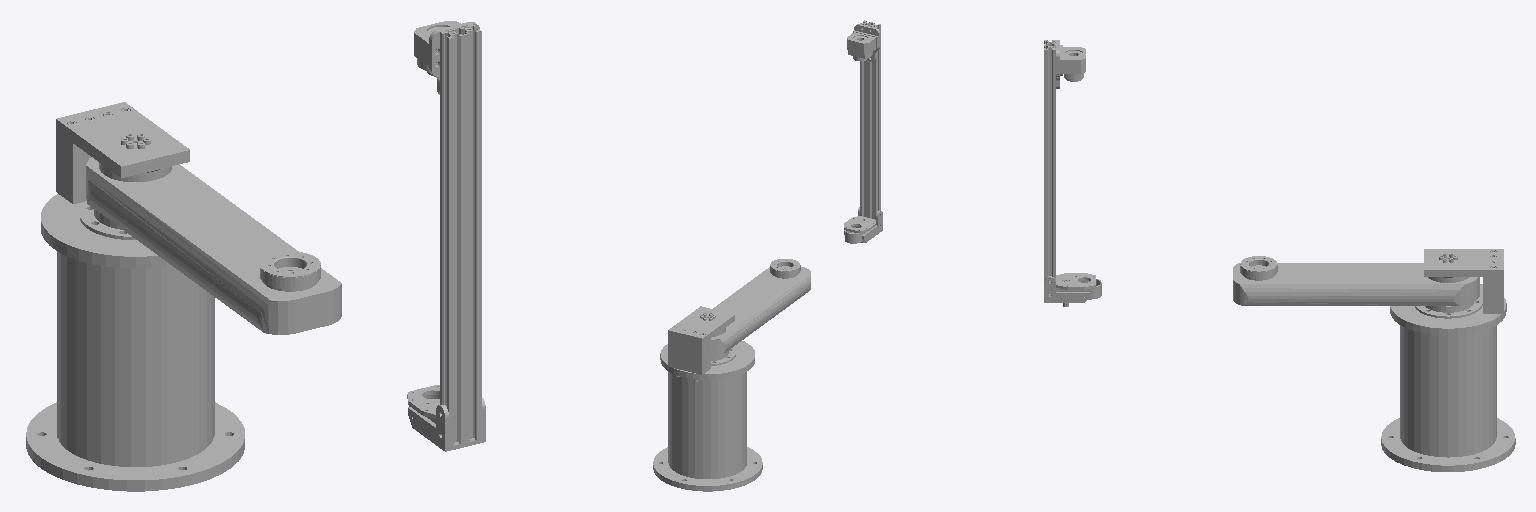
robot.urdf — nelen:
<?xml version="1.0" encoding="utf-8" ?>
<!-- This URDF was crafted by the one and only Feliping. RFIDudes 2 the future -->

<robot name="nelen">
  <link name="world" />
  <link name="base_link">
    <inertial>
        <origin xyz="-0.024844 -0.012773 0.34999" rpy="0 0 0" />
        <mass value="15.652" />
        <inertia ixx="0.077426" ixy="1.6502E-15" ixz="-3.9864E-16" iyy="0.08833" iyz="9.4391E-06" izz="0.07706" />
    </inertial>
    <visual>
      <geometry>
        <mesh filename="package://nelen/meshes/base_corrected.dae" />
      </geometry>
      <material name="">
        <color rgba="0.75294 0.75294 0.75294 1" />
      </material>
    </visual>
    <collision>
      <origin xyz="0 0 0" rpy="0 0 0" />
      <geometry>
        <mesh filename="package://nelen/meshes/base_corrected.dae" />
      </geometry>
    </collision>
  </link>
  <link name="humero">        
    <inertial>
        <origin xyz="1.0851E-08 0.048114 0.14266" rpy="0 0 0" />
        <mass value="5" />
        <inertia ixx="0.019084" ixy="-1.4804E-10" ixz="-2.2963E-09" iyy="0.020036" iyz="-0.00043182" izz="0.0013447" />
     </inertial>

        <visual>
            <origin xyz="0 0 0" rpy="0 0 0" />
            <geometry>
                <mesh filename="package://nelen/meshes/humero_corrected.dae" />
            </geometry>
            <material name="">
                <color rgba="0.75294 0.75294 0.75294 1" />
            </material>
        </visual>
        <collision>
            <origin xyz="0 0 0" rpy="0 0 0" />
            <geometry>
                <mesh filename="package://nelen/meshes/humero_corrected.dae" />
            </geometry>
        </collision>
    </link>
    <joint name="hombro" type="revolute">
        <origin xyz="0 0 0.262" rpy="0 0 0" />
        <parent link="base_link" />
        <child link="humero" />
        <axis xyz="0 0 1" />
        <limit lower="-1.57" upper="1.57" effort="45" velocity="8" />
    </joint>
  <link name="rc">        
        <inertial>
            <origin xyz="6.9227E-07 0.15158 0.13901" rpy="0 0 0" />
            <mass value="15" />
            <inertia ixx="0.011379" ixy="1.7481E-08" ixz="-5.0618E-08" iyy="0.007139" iyz="-0.0017743" izz="0.0062172" />
        </inertial>

        <visual>
            <origin xyz="0 0 0" rpy="0 0 0" />
            <geometry>
                <mesh filename="package://nelen/meshes/rc_corrected.dae" />
            </geometry>
            <material name="">
                <color rgba="0.75294 0.75294 0.75294 1" />
            </material>
        </visual>
        <collision>
            <origin xyz="0 0 0" rpy="0 0 0" />
            <geometry>
                <mesh filename="package://nelen/meshes/rc_corrected.dae" />
            </geometry>
        </collision>
    </link>
    <joint name="codo" type="revolute">
        <origin xyz="0 -0.33 0.052" rpy="0 0 0" />
        <parent link="humero" />
        <child link="rc" />
        <axis xyz="0 0 1" />
        <limit lower="-2.61" upper="2.61" effort="35" velocity="8" />
    </joint>
<link name="zeta">
        
<inertial>
            <origin xyz="-0.011881 0.12518 -0.016578" rpy="0 0 0" />
            <mass value="2" />
            <inertia ixx="0.0028275" ixy="3.4325E-06" ixz="2.9995E-10" iyy="0.00010967" iyz="9.9633E-12" izz="0.0028174" />
        </inertial>

        <visual>
            <origin xyz="0 0 0" rpy="0 0 0" />
            <geometry>
                <mesh filename="package://nelen/meshes/z_corrected.dae" />
            </geometry>
            <material name="">
                <color rgba="0.75294 0.75294 0.75294 1" />
            </material>
        </visual>
        <collision>
            <origin xyz="0 0 0" rpy="0 0 0" />
            <geometry>
                <mesh filename="package://nelen/meshes/z_corrected.dae" />
            </geometry>
        </collision>
    </link>
    <joint name="pris" type="prismatic">
        <origin xyz="0 -0.3534 -0.049" rpy="0 0 0" />
        <parent link="rc" />
        <child link="zeta" />
        <axis xyz="0 0 1" />
        <limit lower="-0.268" upper="0" effort="70" velocity="5" />
    </joint>
  <joint name="suelo" type="fixed">
    <parent link="world"/>
    <child link="base_link"/>
  </joint>
    <transmission name="trans_hombro">
        <type>transmission_interface/SimpleTransmission</type>
        <joint name="hombro">
            <hardwareInterface>hardware_interface/EffortJointInterface</hardwareInterface><!-- aqui poner interfaz con odrive -->
        </joint>
        <actuator name="hombro_motor">
            <hardwareInterface>hardware_interface/EffortJointInterface</hardwareInterface><!-- aqui poner interfaz con odrive -->
            <mechanicalReduction>7</mechanicalReduction>
        </actuator>
    </transmission>
    <transmission name="trans_codo">
        <type>transmission_interface/SimpleTransmission</type>
        <joint name="codo">
            <hardwareInterface>hardware_interface/EffortJointInterface</hardwareInterface><!-- aqui poner interfaz con odrive -->
        </joint>
        <actuator name="codo_motor">
            <hardwareInterface>hardware_interface/EffortJointInterface</hardwareInterface> <!-- aqui poner interfaz con odrive -->
            <mechanicalReduction>7</mechanicalReduction>
        </actuator>
    </transmission>
    <transmission name="trans_pris">
        <type>transmission_interface/SimpleTransmission</type>
        <joint name="pris">
            <hardwareInterface>hardware_interface/EffortJointInterface</hardwareInterface> <!-- aqui poner interfaz con odrive -->
        </joint>
        <actuator name="pris_motor">
            <hardwareInterface>hardware_interface/EffortJointInterface</hardwareInterface><!-- aqui poner interfaz con odrive -->
            <mechanicalReduction>392.5</mechanicalReduction>
        </actuator>
    </transmission>
    <gazebo>
        <plugin name="gazebo_ros_control" filename="libgazebo_ros_control.so">
            <robotNamespace>nelen</robotNamespace>
        </plugin>
    </gazebo>

</robot>

--- Facts derived from the render (not from the file) ---
3 views of the same robot in one strip: view 1: azimuth 30°, elevation 25°; view 2: azimuth 150°, elevation 25°; view 3: azimuth 270°, elevation 25° (orthographic).
Robot: nelen — 5 links, 4 joints (2 revolute, 1 prismatic, 1 fixed); root link world; default pose: every joint at zero.
Links seen in each view (by area): view 1: base_link, humero, zeta; view 2: base_link, zeta, humero; view 3: base_link, humero, zeta.
Link boxes in pixels (left/top/right/bottom): base_link: left=26, top=102, right=244, bottom=491; humero: left=86, top=157, right=341, bottom=334; zeta: left=407, top=21, right=485, bottom=451; base_link: left=653, top=306, right=762, bottom=491; zeta: left=844, top=20, right=882, bottom=243; humero: left=711, top=259, right=810, bottom=356; base_link: left=1381, top=249, right=1515, bottom=471; humero: left=1233, top=256, right=1479, bottom=305; zeta: left=1044, top=40, right=1101, bottom=306.
Bounding box of the posed robot: 0.234 × 0.8203 × 0.767 m (x, y, z).
Meshes: 4 distinct files referenced, 3 mesh visuals loaded (3 Collada DAE); not drawn: 1 (reference not matched to a file when rendering).
